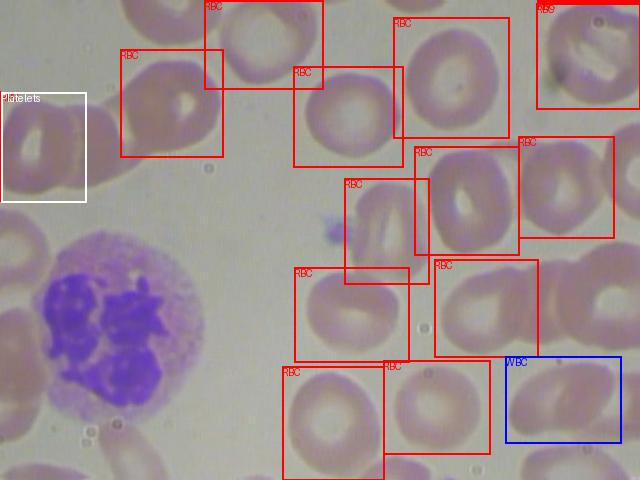Platelets: (1, 92, 86, 202)
RBC: (393, 17, 509, 138), (282, 366, 384, 480), (414, 146, 519, 255), (120, 49, 223, 157), (293, 66, 403, 167), (536, 3, 640, 109), (294, 267, 409, 362), (204, 0, 323, 89), (434, 259, 538, 357), (383, 360, 490, 454), (518, 136, 614, 238), (344, 178, 429, 284), (537, 0, 640, 2)
WBC: (505, 356, 621, 443)
